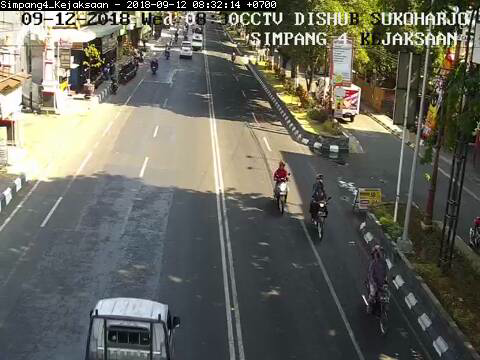motor: (361, 243, 396, 336), (308, 172, 331, 241), (271, 159, 295, 216)
